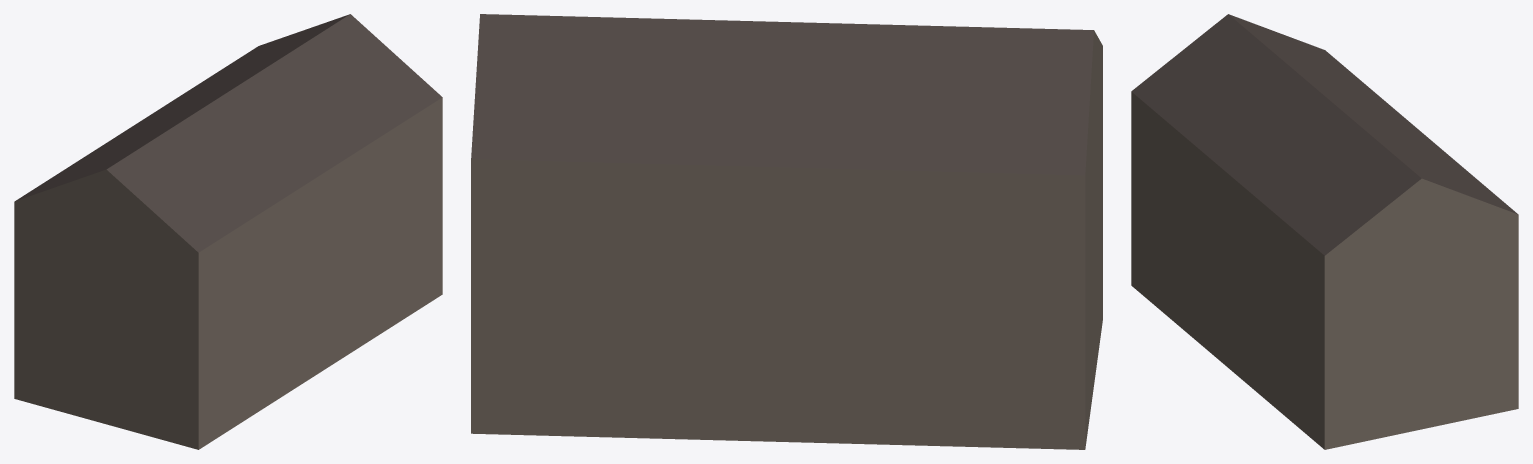
3 renders of one model, left to right at view 1: azimuth 30°, elevation 25°; view 2: azimuth 150°, elevation 25°; view 3: azimuth 270°, elevation 25°, orthographic. The views are drawn at different scales.
Visible parts, largest first — view 1: HP-w408450744; view 2: HP-w408450744; view 3: HP-w408450744.
Part boxes in pixels (x1,y1,x2,y2): HP-w408450744: (14,14,442,449); HP-w408450744: (471,14,1102,449); HP-w408450744: (1131,14,1518,449).
Bounding box in the file's own units: 13.64 × 7.76 × 10.85.
